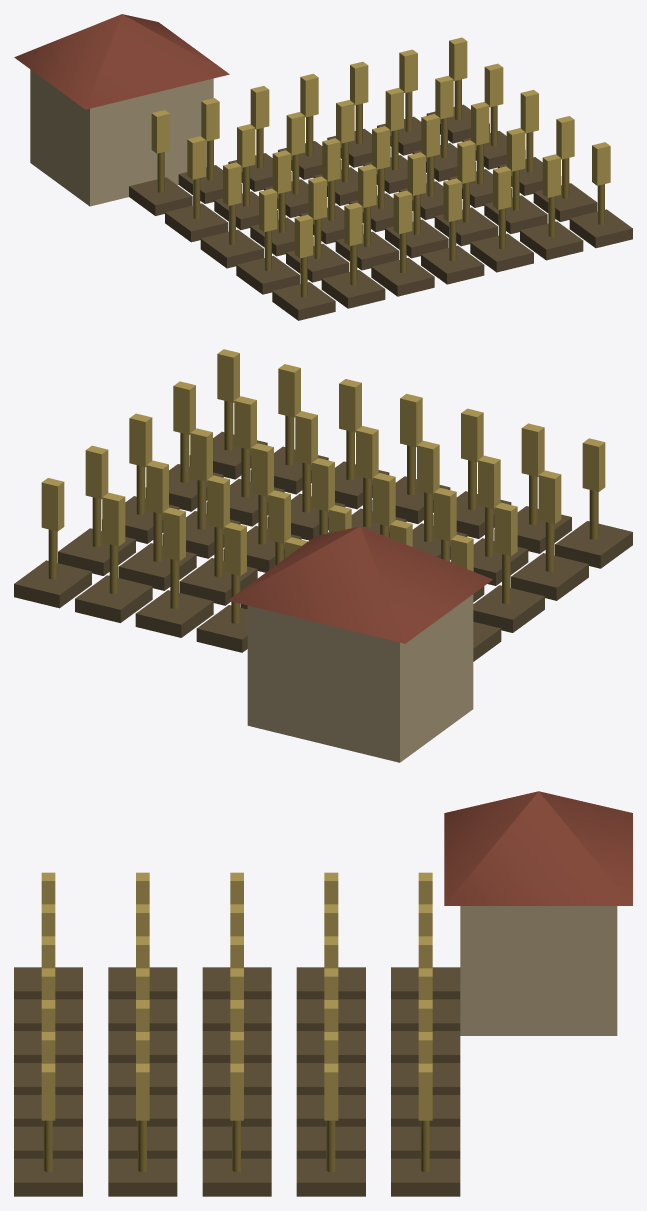
Rendered from custom-imp-farm.glb.
3 views of the same model, one above another, from view 1: azimuth 30°, elevation 25°; view 2: azimuth 150°, elevation 25°; view 3: azimuth 270°, elevation 25° (orthographic). The views are drawn at different scales.
Visible parts, largest first — view 1: custom-imp-farm; view 2: custom-imp-farm; view 3: custom-imp-farm.
Part boxes in pixels (bbox=[...]): custom-imp-farm: bbox=[14, 14, 632, 320]; custom-imp-farm: bbox=[14, 349, 632, 762]; custom-imp-farm: bbox=[14, 791, 632, 1196].
Size of the model in its own units: 0.9442 by 0.3655 by 1.
